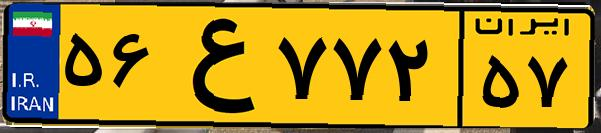2: (385, 28, 445, 110)
5: (57, 26, 110, 100), (475, 38, 525, 113)
6: (110, 28, 158, 98)
7: (270, 28, 330, 110), (330, 28, 385, 110), (525, 38, 570, 115)
ع: (158, 12, 270, 120)
